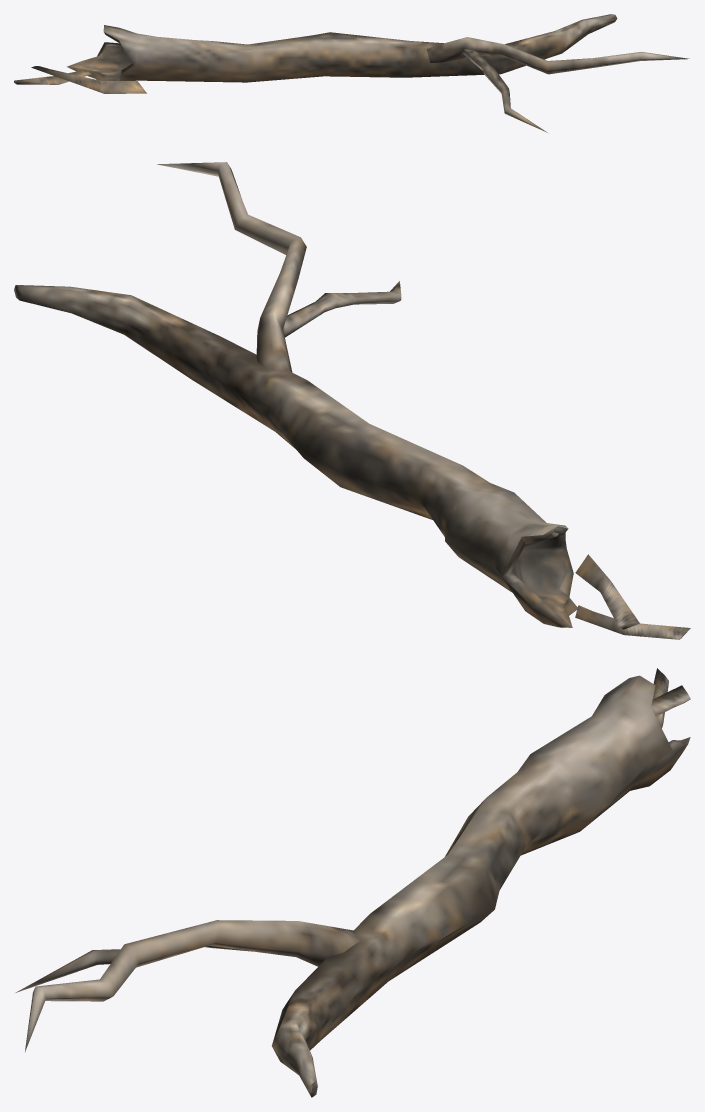
Rendered from xsm_shu_6.FBX.
3 renders of one model, top to bottom at view 1: azimuth 30°, elevation 25°; view 2: azimuth 150°, elevation 25°; view 3: azimuth 270°, elevation 25°, orthographic. The views are drawn at different scales.
Visible parts, largest first — view 1: xsm_shu_6; view 2: xsm_shu_6; view 3: xsm_shu_6.
Part boxes in pixels (x1,y1,x2,y2): xsm_shu_6: (14,14,689,132); xsm_shu_6: (14,162,690,639); xsm_shu_6: (15,668,690,1097).
Bounding box in the file's own units: 243 × 27.45 × 157.
